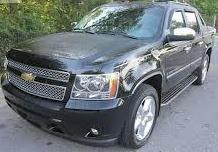front_view: (1, 52, 125, 145)
headlight: (68, 68, 123, 108)
side_glass: (169, 9, 204, 43)
